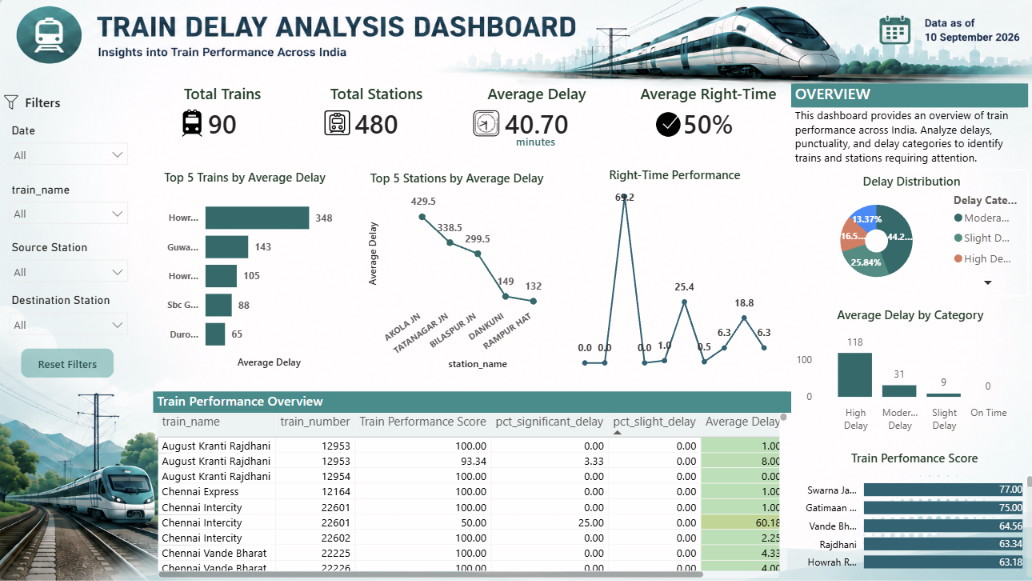

Layout of this report page (visuals, bound fields, positions):
{"tool":"powerbi","page":{"name":"Page 1","canvas":[1280,720],"ordinal":0},"visuals":[{"type":"kpi","title":"Total Trains ","fields":{"Indicator":["Clean_Data.Total Trains"],"TrendLine":["Clean_Data.scraped_at.Variation.Date Hierarchy.Year"]},"box":[189.4,105,171.3,88.1],"z":0},{"type":"kpi","title":"Total Stations","fields":{"Indicator":["Clean_Data.Total Stations"],"TrendLine":["Clean_Data.scraped_at.Variation.Date Hierarchy.Year"]},"box":[381.2,105,166.5,88.1],"z":1000},{"type":"kpi","title":"Average Right-Time","fields":{"Indicator":["Clean_Data.Average Right Time"],"TrendLine":["Clean_Data.scraped_at.Variation.Date Hierarchy.Year"]},"box":[781.8,105,185.8,88.1],"z":2000},{"type":"kpi","title":"Average Delay ","fields":{"Indicator":["Clean_Data.Average Delay"],"TrendLine":["Clean_Data.scraped_at.Variation.Date Hierarchy.Year"]},"box":[564.6,105,196.6,88.1],"z":3000},{"type":"clusteredBarChart","title":"Top 5 Trains by Average Delay","fields":{"Category":["Clean_Data.train_name"],"Y":["Clean_Data.Average Delay"]},"box":[189.4,209.9,226.8,252.1],"z":4000},{"type":"lineChart","title":"Top 5 Stations by Average Delay","fields":{"Category":["Clean_Data.station_name"],"Y":["Clean_Data.Average Delay"]},"box":[451.2,211.1,226.8,252.1],"z":5000},{"type":"donutChart","title":"Delay Distribution","fields":{"Category":["Clean_Data.Delay Category"],"Y":["CountNonNull(Clean_Data.Delay Category)"]},"box":[977.2,211.1,292,156.8],"z":6000},{"type":"lineChart","title":"Right-Time Performance","fields":{"Category":["Clean_Data.scraped_at"],"Y":["Avg(Clean_Data.pct_right_time)"]},"box":[707,207.5,250.9,252.1],"z":7000},{"type":"tableEx","title":"Train Performance Overview","fields":{"Values":["Clean_Data.train_name","Clean_Data.train_number","Clean_Data.Train Performance Score","Clean_Data.pct_significant_delay","Clean_Data.pct_slight_delay","Clean_Data.Average Delay","Clean_Data.Average Right Time"]},"box":[189.4,485,787.8,235.3],"z":8000},{"type":"clusteredColumnChart","title":"Average Delay by Category","fields":{"Category":["Clean_Data.Delay Category"],"Y":["Clean_Data.Average Delay"]},"box":[977.2,380,292,162.9],"z":9000},{"type":"clusteredBarChart","title":"Train Perfomance Score","fields":{"Category":["Clean_Data.train_name"],"Y":["Clean_Data.Train Performance Score"]},"box":[977.2,557.4,302.8,162.9],"z":10000},{"type":"textbox","title":"OVERVIEW","box":[976,105,293.2,105],"z":11000},{"type":"slicer","fields":{"Values":["Clean_Data.Scrape Day"]},"box":[1.2,149.6,166.5,72.4],"z":12000},{"type":"slicer","fields":{"Values":["Clean_Data.train_name"]},"box":[1.2,222,166.5,72.4],"z":13000},{"type":"slicer","fields":{"Values":["Clean_Data.station_code"]},"box":[1.2,294.4,166.5,72.4],"z":14000},{"type":"slicer","fields":{"Values":["Clean_Data.station_name"]},"box":[1.2,359.5,166.5,72.4],"z":15000},{"type":"actionButton","box":[26.5,431.9,114.6,36.2],"z":16000},{"type":"textbox","box":[26.5,112.2,127.9,37.4],"z":17000},{"type":"image","box":[212.3,137.5,49.5,33.8],"z":17001},{"type":"image","box":[398.1,100.1,37.4,107.4],"z":17002},{"type":"image","box":[575.5,96.5,49.5,115.8],"z":17003},{"type":"image","box":[808.3,100.1,32.6,111],"z":17004},{"type":"image","box":[0,118.2,26.5,19.3],"z":17005},{"type":"textbox","box":[632.2,162.9,149.6,35],"z":17006}]}

Visuals, with their boxes in screenshot pixels (x1, y1, x2, y2), scaled from the page's 1280x720 canvas onto the 1032x581 screenshot:
"Total Trains " kpi: bbox=[153, 85, 291, 156]
"Total Stations" kpi: bbox=[307, 85, 442, 156]
"Average Right-Time" kpi: bbox=[630, 85, 780, 156]
"Average Delay " kpi: bbox=[455, 85, 614, 156]
"Top 5 Trains by Average Delay" clusteredBarChart: bbox=[153, 169, 336, 373]
"Top 5 Stations by Average Delay" lineChart: bbox=[364, 170, 547, 374]
"Delay Distribution" donutChart: bbox=[788, 170, 1023, 297]
"Right-Time Performance" lineChart: bbox=[570, 167, 772, 371]
"Train Performance Overview" tableEx: bbox=[153, 391, 788, 580]
"Average Delay by Category" clusteredColumnChart: bbox=[788, 307, 1023, 438]
"Train Perfomance Score" clusteredBarChart: bbox=[788, 450, 1031, 580]
"OVERVIEW" textbox: bbox=[787, 85, 1023, 169]
slicer - Clean_Data.Scrape Day: bbox=[1, 121, 135, 179]
slicer - Clean_Data.train_name: bbox=[1, 179, 135, 238]
slicer - Clean_Data.station_code: bbox=[1, 238, 135, 296]
slicer - Clean_Data.station_name: bbox=[1, 290, 135, 349]
actionButton: bbox=[21, 349, 114, 378]
textbox: bbox=[21, 91, 124, 121]
image: bbox=[171, 111, 211, 138]
image: bbox=[321, 81, 351, 167]
image: bbox=[464, 78, 504, 171]
image: bbox=[652, 81, 678, 170]
image: bbox=[0, 95, 21, 111]
textbox: bbox=[510, 131, 630, 160]
